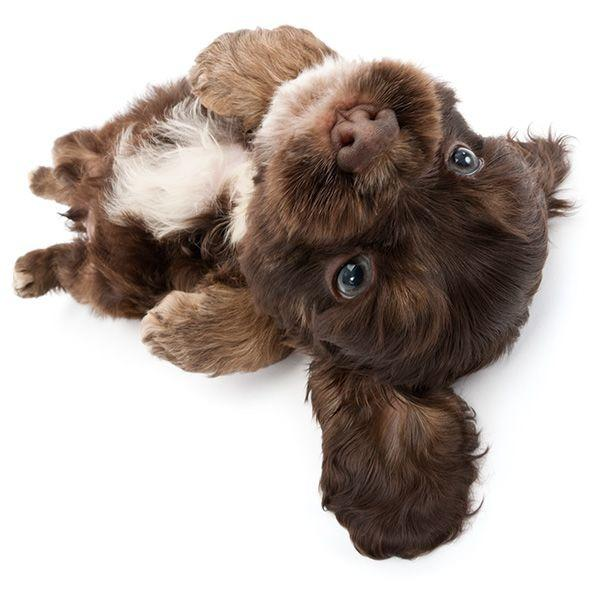puppy-dog: (12, 20, 579, 561)
